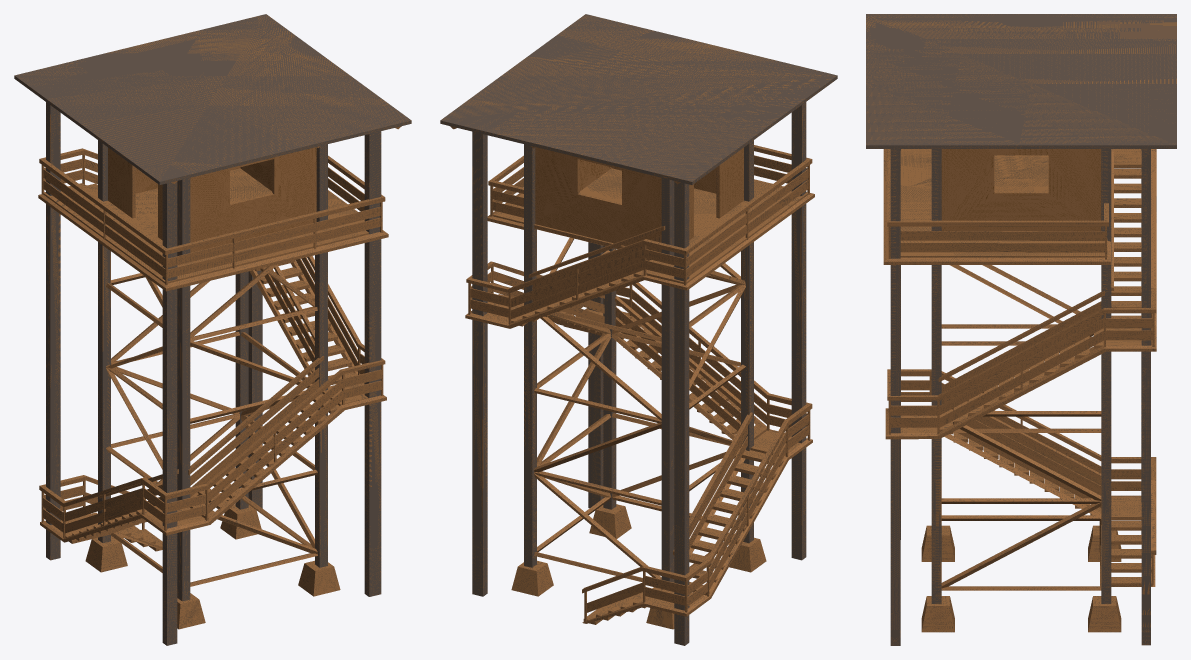
The model's file is watchtower.fbx.
The picture shows the model from 3 angles, left to right: view 1: azimuth 30°, elevation 25°; view 2: azimuth 150°, elevation 25°; view 3: azimuth 270°, elevation 25°; orthographic projection. The views are drawn at different scales.
Parts seen in each view (by area): view 1: skp144E1; view 2: skp144E1; view 3: skp144E1.
Boxes of the visible parts, <box> form: skp144E1: <box>14,14,411,645</box>; skp144E1: <box>440,14,837,645</box>; skp144E1: <box>866,14,1176,645</box>.
Size of the model in its own units: 6.47 by 11.71 by 6.47.
